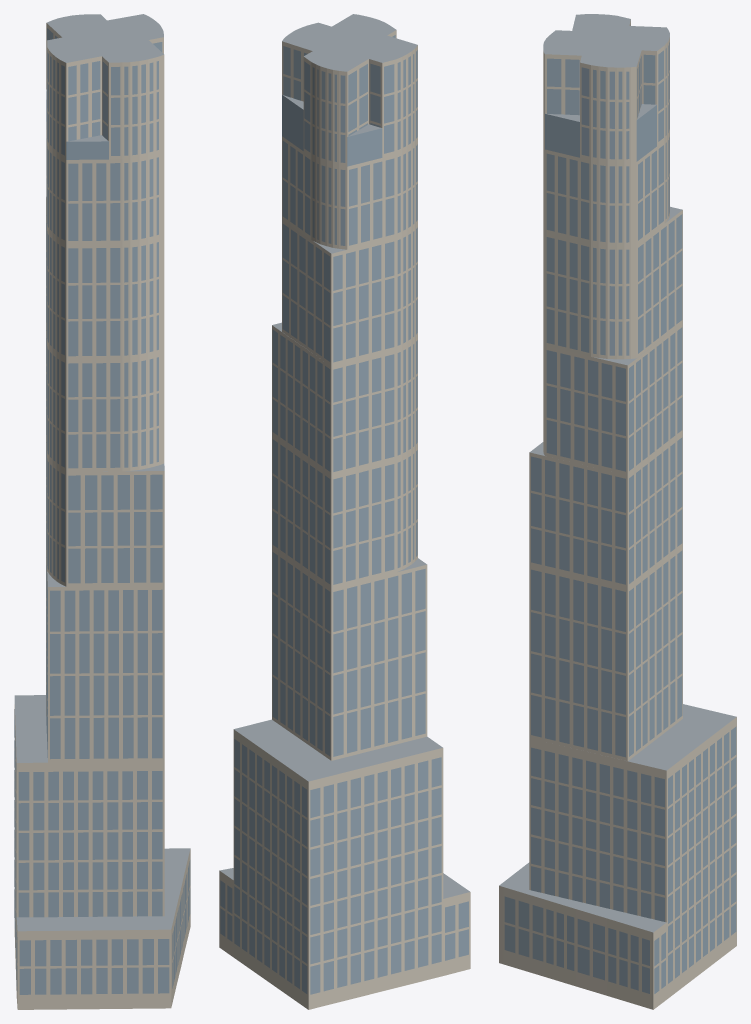
The picture shows the model from 3 angles, left to right: view 1: azimuth 30°, elevation 25°; view 2: azimuth 150°, elevation 25°; view 3: azimuth 270°, elevation 25°; orthographic projection. The views are drawn at different scales.
Visible parts, largest first — view 1: 35-hudson-yards; view 2: 35-hudson-yards; view 3: 35-hudson-yards.
Boxes of the visible parts, x1,y1,x2,y2 form: 35-hudson-yards: (14, 14, 190, 1009); 35-hudson-yards: (219, 14, 470, 1009); 35-hudson-yards: (499, 14, 736, 1009).
Size of the model in its own units: 74.2 by 308 by 72.46.
